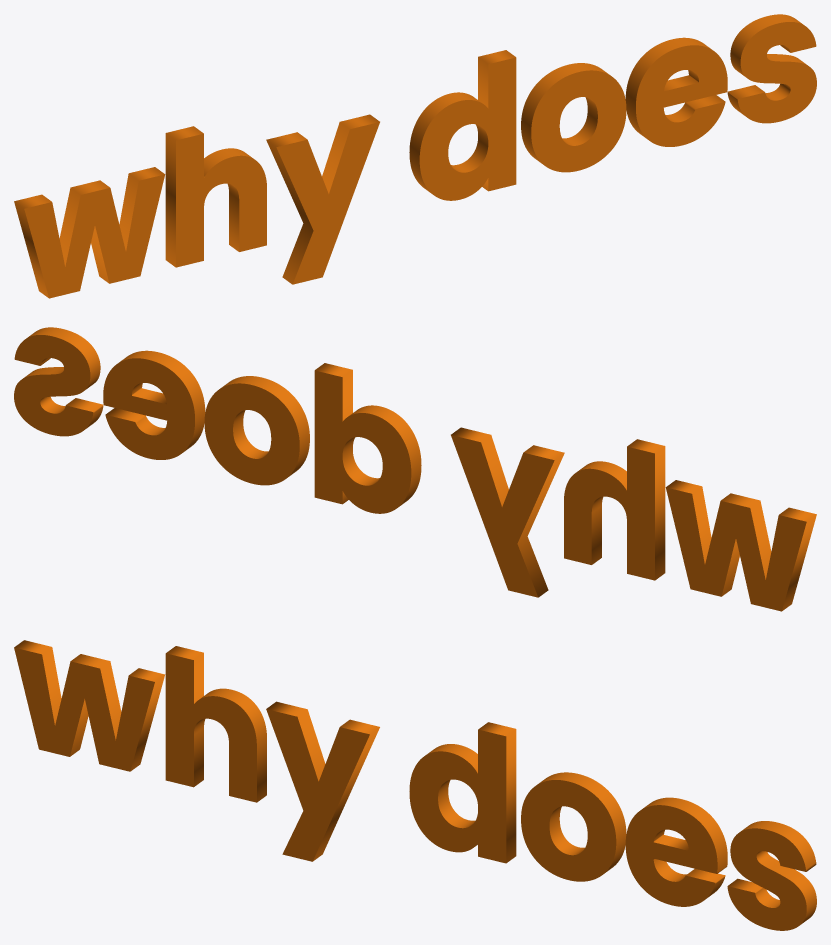
Rendered from yazi2.gltf.
3 views of the same model, one above another, from view 1: azimuth 30°, elevation 25°; view 2: azimuth 150°, elevation 25°; view 3: azimuth 330°, elevation 25° (orthographic).
Parts seen in each view (by area): view 1: Text.083; view 2: Text.083; view 3: Text.083.
Part boxes in pixels (x1,y1,x2,y2): Text.083: [14, 14, 816, 298]; Text.083: [14, 327, 816, 611]; Text.083: [14, 640, 816, 930].
Size of the model in its own units: 0.1951 by 0.0406 by 0.00435.
